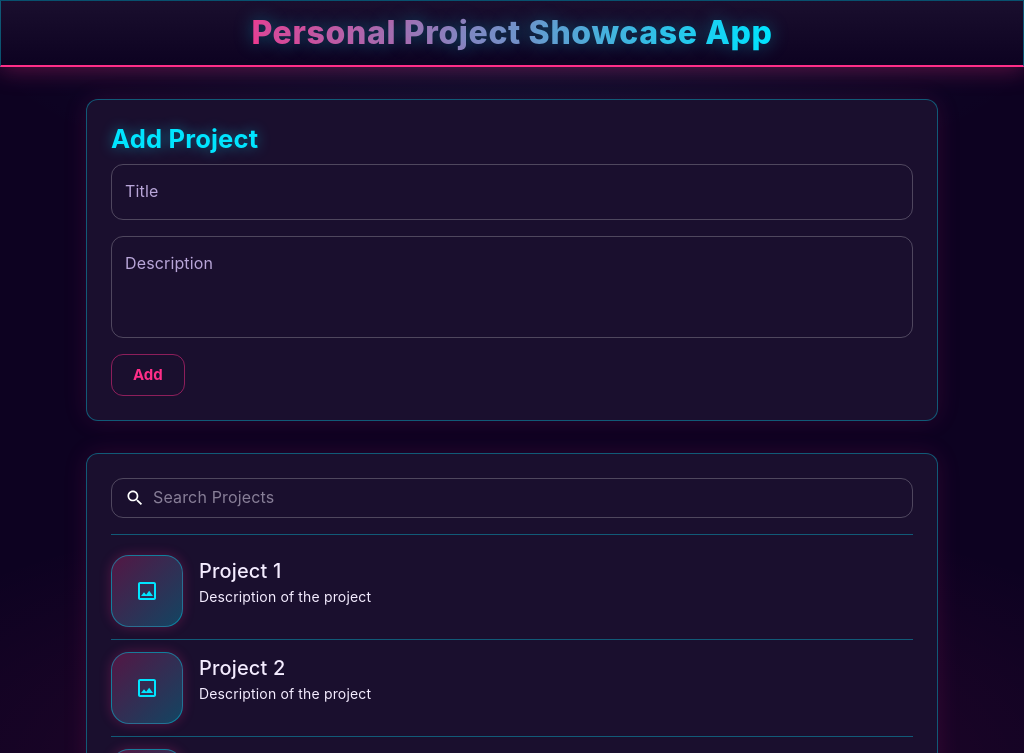
Test: App integration › filters the visible projects as the user types in search
Type "Project 2" into the field labelled "Search Projects".
click(533, 498); type("Project 2")  # box [153,478,913,518]
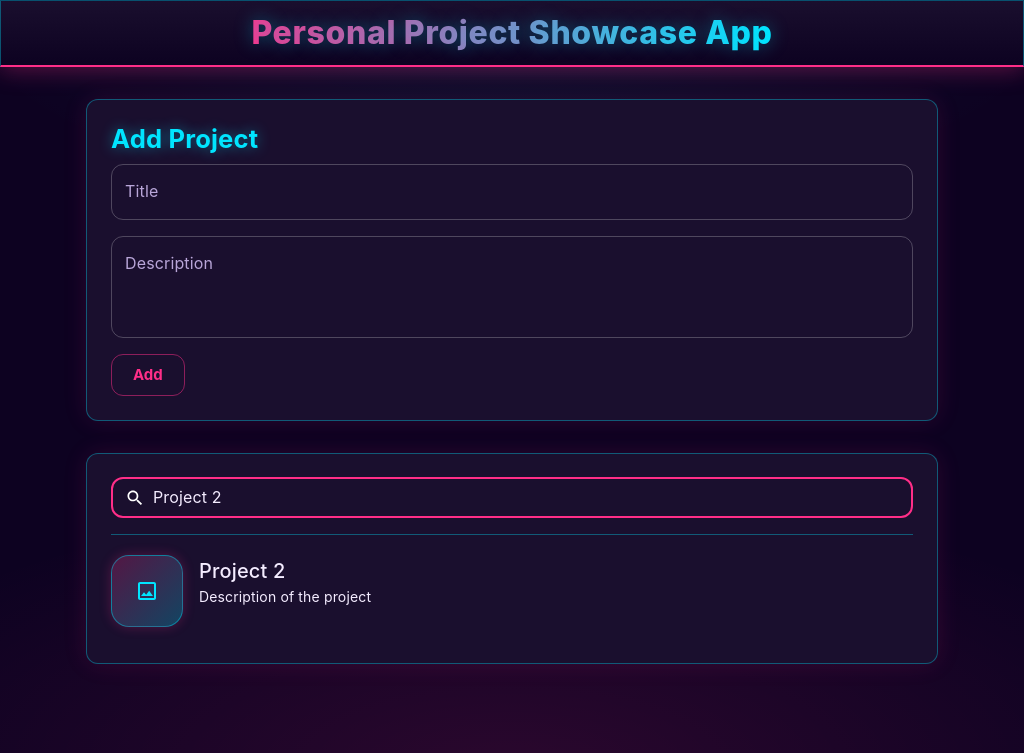
expect the heading "Project 2" is shown: met, box [199,559,285,583]
expect the heading "Project 1" is gone: met
